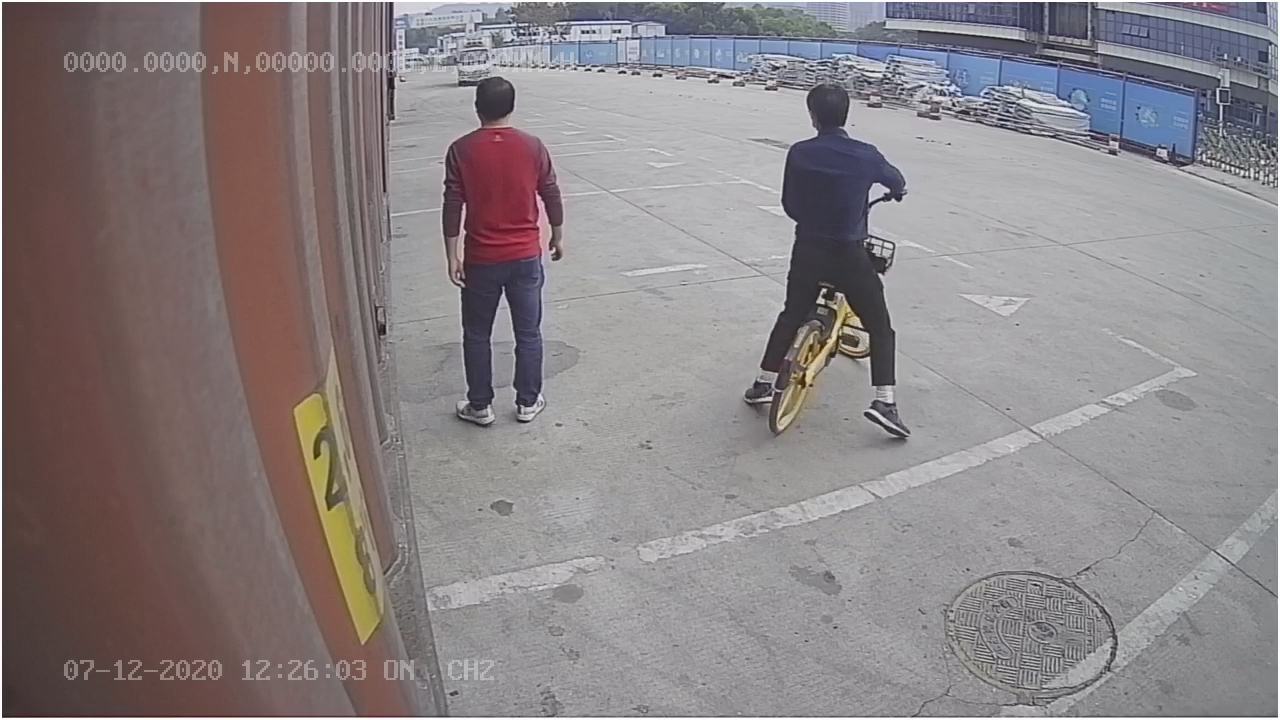person: (435, 73, 572, 434)
